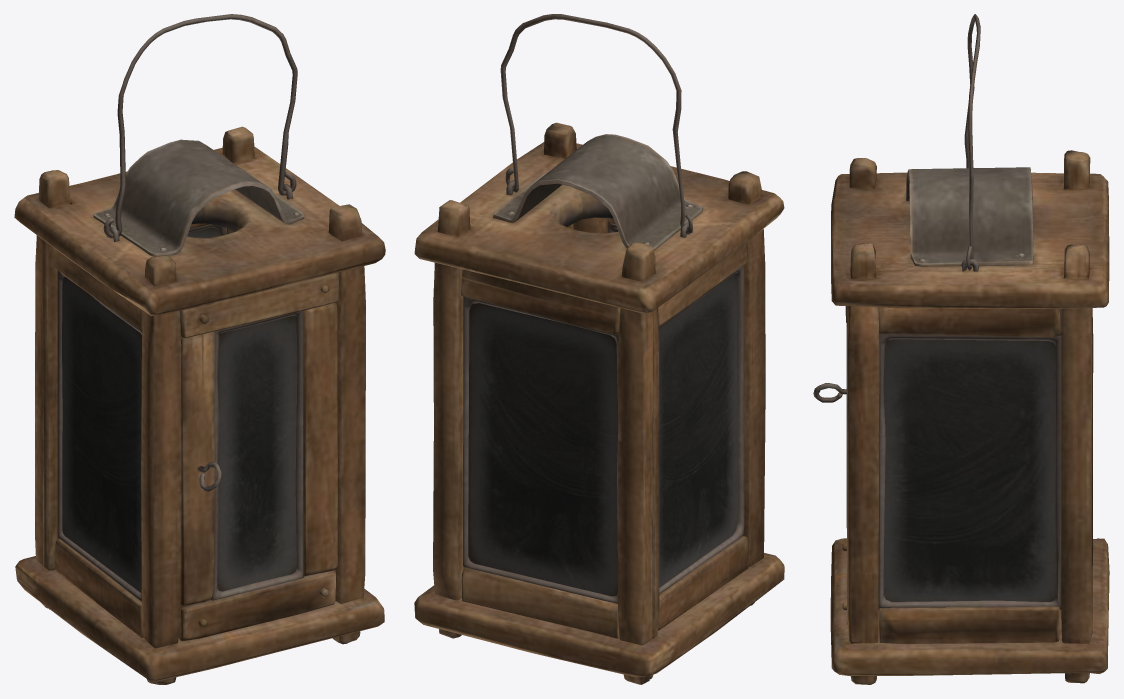
File: wooden_lantern_01.gltf
3 views of the same model, side by side, from view 1: azimuth 30°, elevation 25°; view 2: azimuth 150°, elevation 25°; view 3: azimuth 270°, elevation 25° (orthographic).
Visible parts, largest first — view 1: wooden_lantern_01, wooden_lantern_01_door, wooden_lantern_01_handle; view 2: wooden_lantern_01, wooden_lantern_01_handle, wooden_lantern_01_door; view 3: wooden_lantern_01, wooden_lantern_01_handle, wooden_lantern_01_door.
Part boxes in pixels (box(x1,y1,x2,y2)): wooden_lantern_01: box(14, 126, 385, 684); wooden_lantern_01_door: box(178, 272, 339, 641); wooden_lantern_01_handle: box(103, 14, 297, 238); wooden_lantern_01: box(414, 122, 784, 684); wooden_lantern_01_handle: box(500, 14, 692, 234); wooden_lantern_01_door: box(573, 217, 617, 233); wooden_lantern_01: box(830, 150, 1109, 684); wooden_lantern_01_handle: box(964, 14, 980, 270); wooden_lantern_01_door: box(813, 306, 847, 624).
Size of the model in its own units: 0.221 by 0.5301 by 0.2347.
Materials: 2 (2 with a texture image).
